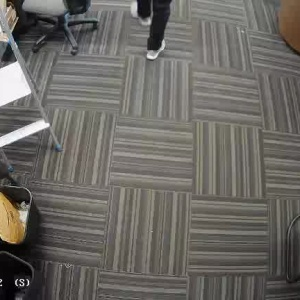person: (119, 0, 179, 63)
